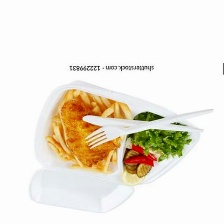foam_box: (23, 77, 207, 218)
